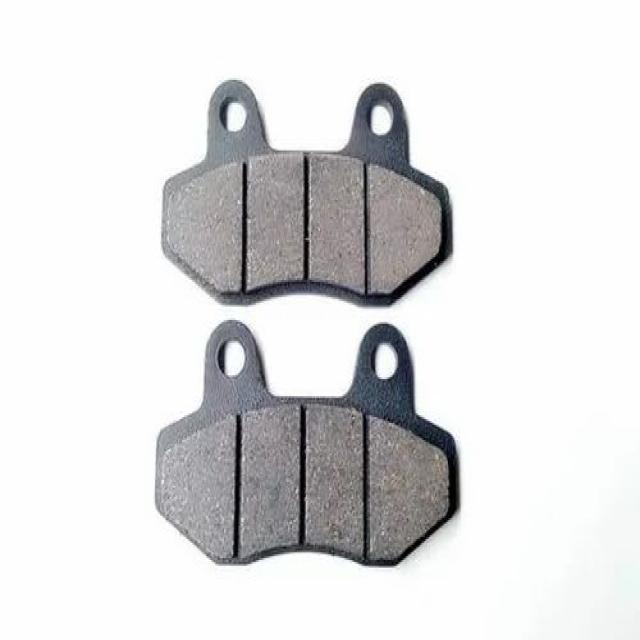brake_pad: (154, 317, 463, 570), (160, 74, 454, 308)
